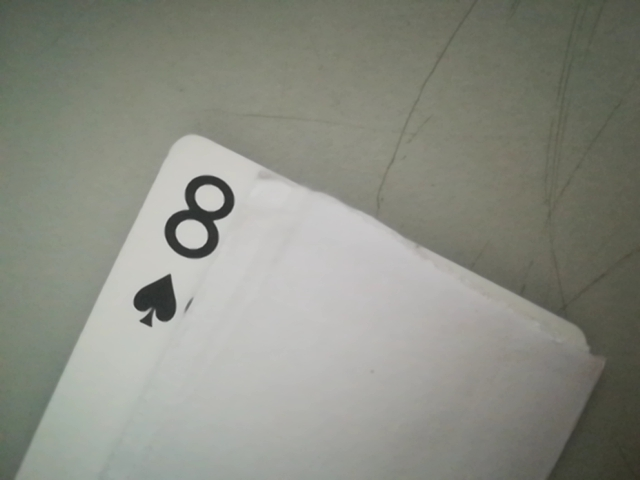ht 8: (121, 159, 254, 338)
